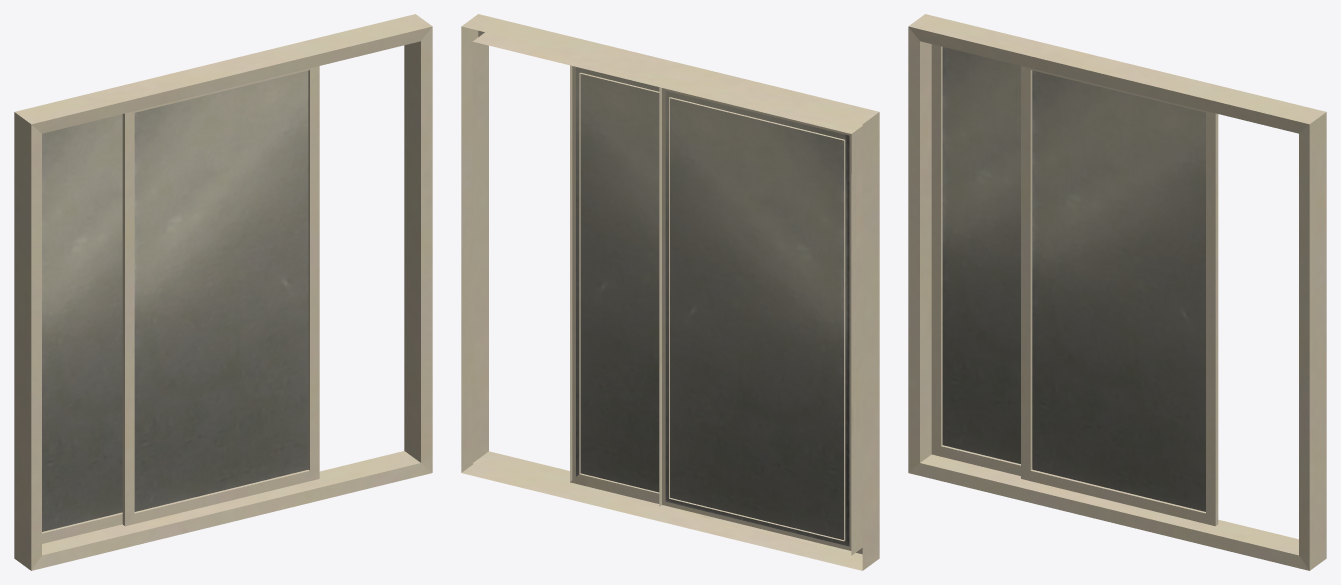
Rendered from Window_0.75m_001.fbx.
3 renders of one model, left to right at view 1: azimuth 30°, elevation 25°; view 2: azimuth 150°, elevation 25°; view 3: azimuth 330°, elevation 25°, orthographic.
Parts seen in each view (by area): view 1: Window_0.75m_001; view 2: Window_0.75m_001; view 3: Window_0.75m_001.
Part boxes in pixels (box(x1,y1,x2,y2)): Window_0.75m_001: box(14, 14, 432, 570); Window_0.75m_001: box(461, 14, 879, 570); Window_0.75m_001: box(908, 14, 1326, 570).
Bounding box in the file's own units: 70.52 × 75 × 5.2.
1 material, 1 textured.
